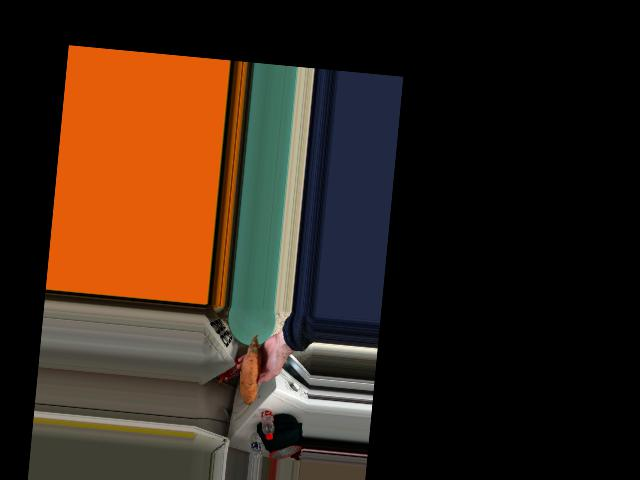sweet_potato: (241, 348, 267, 397)
